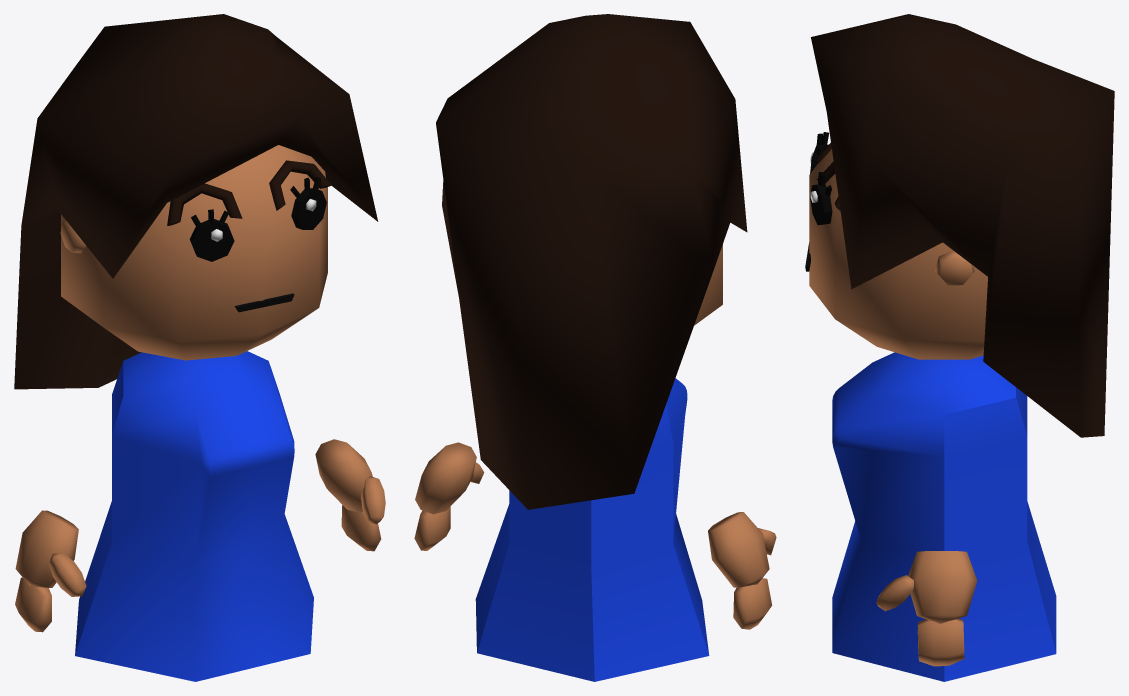
File: mujer_1.fbx
The picture shows the model from 3 angles, left to right: view 1: azimuth 30°, elevation 25°; view 2: azimuth 150°, elevation 25°; view 3: azimuth 270°, elevation 25°; orthographic projection. The views are drawn at different scales.
Parts seen in each view (by area): view 1: Pelo, Cuerpo, Cabeza, Palma Izquerda001, Palma Izquerda, Ojo Derecho, Dedos Izquierdos001, Ojo Izquierdo, Ceja Derecha, Dedos Izquierdos, DedoPulga Izquierdo001, Ceja Izquierda (+1 smaller); view 2: Pelo, Cuerpo, Palma Izquerda001, Palma Izquerda, Dedos Izquierdos001, Dedos Izquierdos, Cabeza; view 3: Pelo, Cuerpo, Cabeza, Palma Izquerda, Dedos Izquierdos, Oreja Derecha001, DedoPulga Izquierdo, Ojo Izquierdo.
Boxes of the visible parts, <box> form: Pelo: <box>14,14,378,389</box>; Cuerpo: <box>75,351,313,681</box>; Cabeza: <box>61,145,327,360</box>; Palma Izquerda001: <box>15,510,78,587</box>; Palma Izquerda: <box>315,439,372,512</box>; Ojo Derecho: <box>189,209,234,261</box>; Dedos Izquierdos001: <box>15,577,51,632</box>; Ojo Izquierdo: <box>290,177,326,229</box>; Ceja Derecha: <box>167,183,242,225</box>; Dedos Izquierdos: <box>341,505,381,551</box>; DedoPulga Izquierdo001: <box>48,553,86,596</box>; Ceja Izquierda: <box>269,160,331,210</box>; Pelo: <box>436,14,747,509</box>; Cuerpo: <box>475,378,709,681</box>; Palma Izquerda001: <box>708,512,769,587</box>; Palma Izquerda: <box>415,442,476,514</box>; Dedos Izquierdos001: <box>733,578,772,629</box>; Dedos Izquierdos: <box>414,506,450,550</box>; Cabeza: <box>694,244,722,325</box>; Pelo: <box>811,14,1114,437</box>; Cuerpo: <box>832,352,1056,681</box>; Cabeza: <box>809,149,987,359</box>; Palma Izquerda: <box>908,551,977,623</box>; Dedos Izquierdos: <box>917,618,964,666</box>; Oreja Derecha001: <box>934,250,974,285</box>; DedoPulga Izquierdo: <box>876,575,913,611</box>; Ojo Izquierdo: <box>810,172,832,225</box>.
Size of the model in its own units: 1.41 by 2.35 by 1.09.
